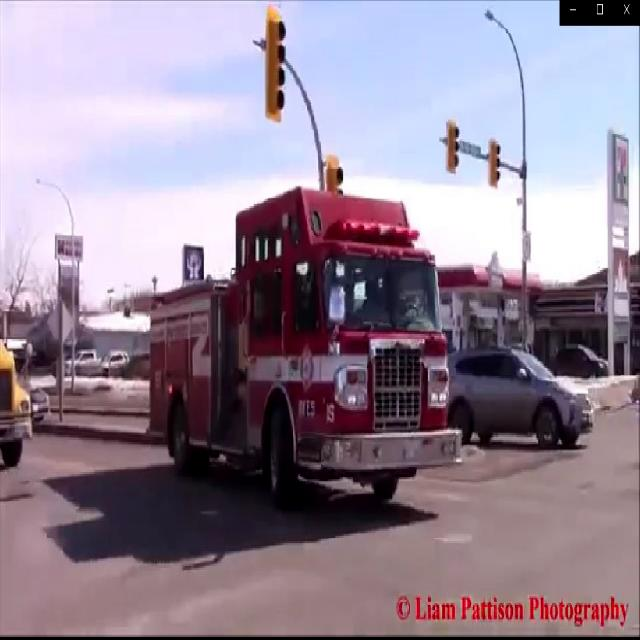emergency: (143, 178, 466, 527)
